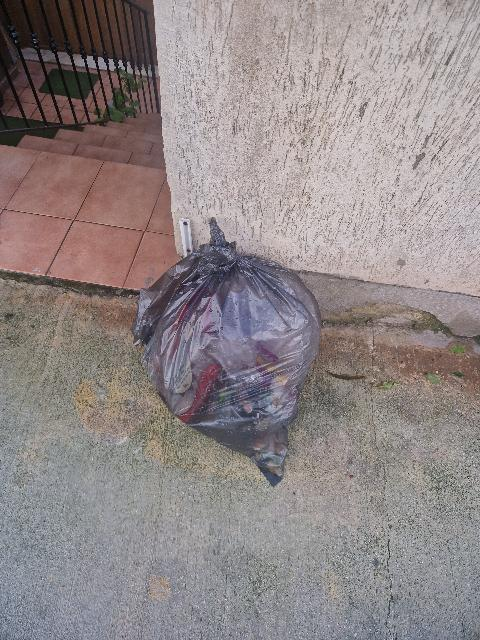Recyclable -Grey-: (131, 218, 321, 486)
